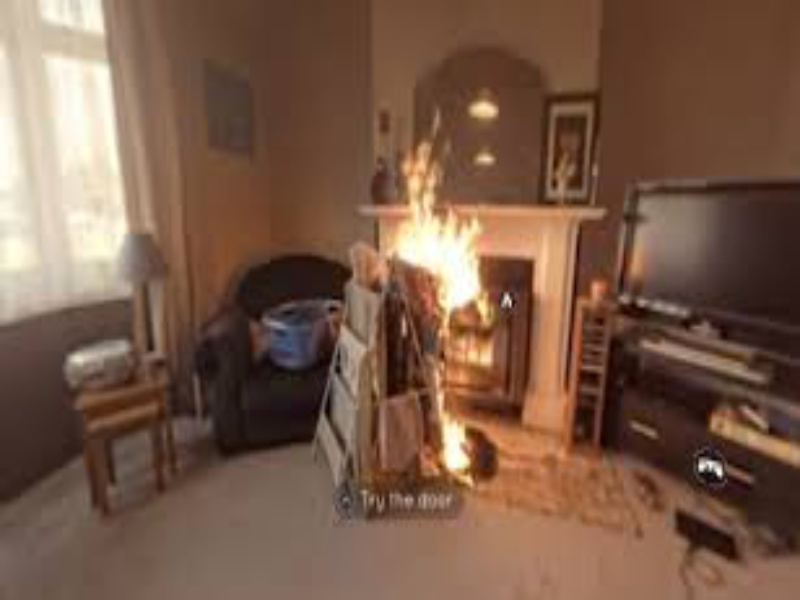fire: (367, 130, 507, 346), (427, 374, 489, 488)
